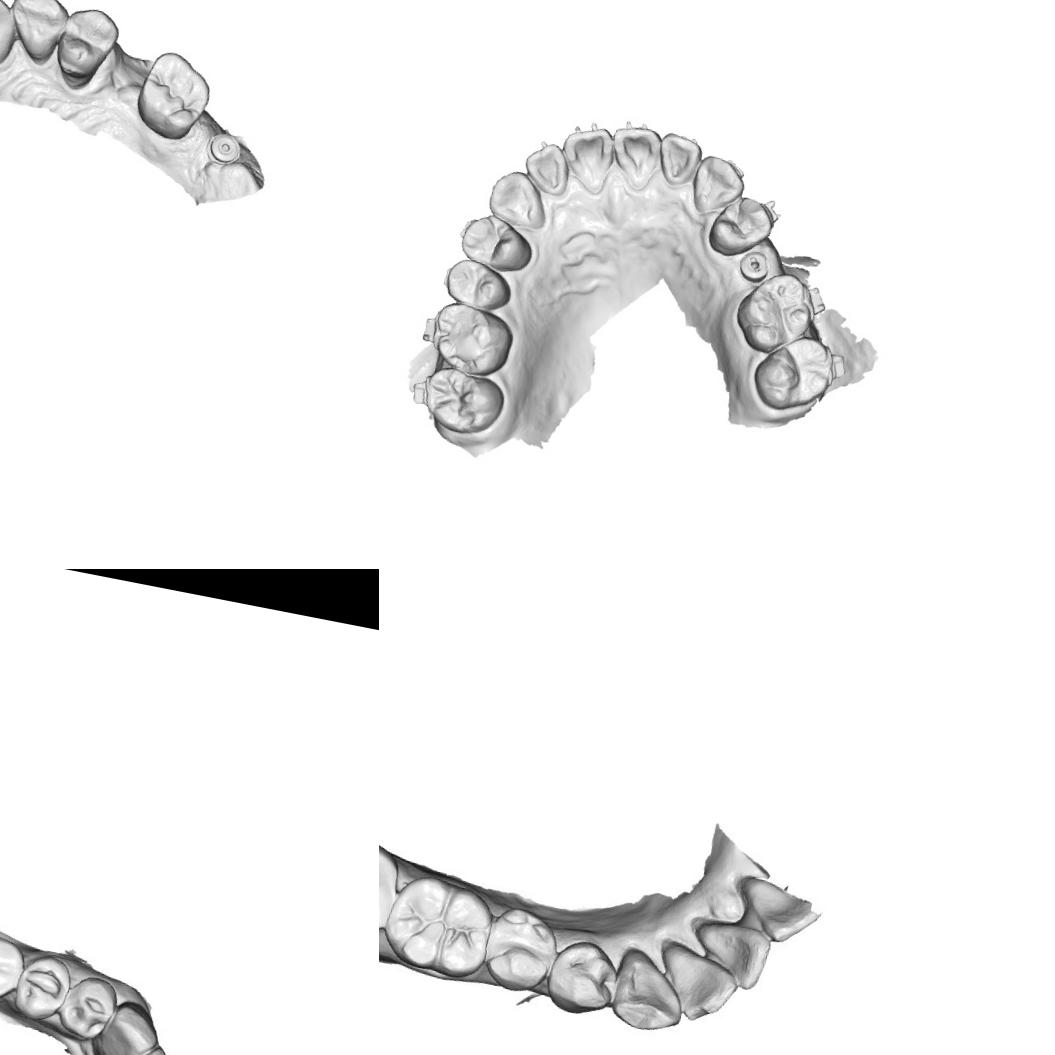canine: (602, 938, 696, 1041), (482, 164, 555, 235), (0, 0, 71, 65), (684, 151, 748, 223), (96, 997, 161, 1055)
implant: (201, 124, 245, 172)
implant_minus: (733, 246, 772, 288)
incisor: (648, 932, 745, 1022), (683, 912, 779, 996), (725, 865, 822, 946), (552, 114, 620, 198), (602, 118, 665, 194), (650, 129, 708, 192), (518, 136, 574, 198), (0, 0, 21, 68), (114, 1045, 175, 1055)
molar: (379, 863, 497, 982), (727, 263, 820, 362), (128, 44, 218, 146), (745, 325, 840, 420), (424, 300, 518, 380), (414, 362, 508, 441), (0, 928, 25, 1006)
premolar: (536, 932, 626, 1023), (474, 902, 560, 997), (50, 1, 124, 85), (702, 189, 778, 265), (455, 208, 538, 276), (439, 254, 517, 314), (12, 954, 70, 1018), (62, 972, 114, 1040)
